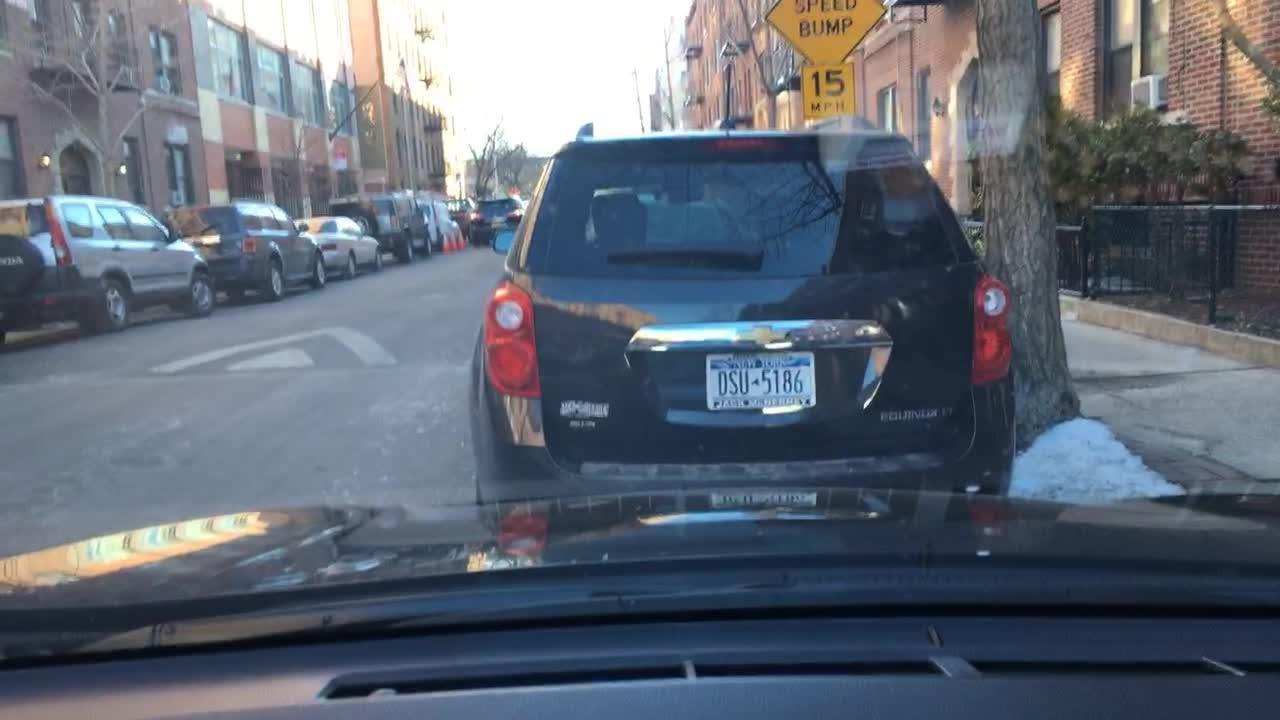chevrolet: (719, 318, 804, 355)
